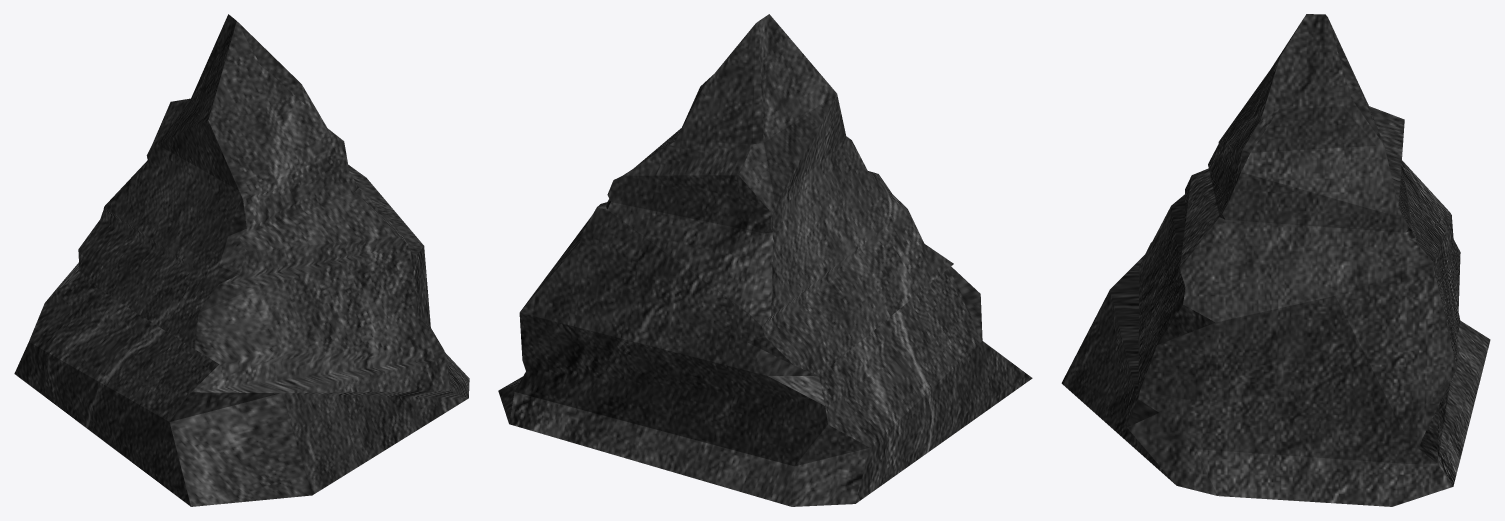
File: pedra1g.fbx
The picture shows the model from 3 angles, left to right: view 1: azimuth 30°, elevation 25°; view 2: azimuth 150°, elevation 25°; view 3: azimuth 270°, elevation 25°; orthographic projection. The views are drawn at different scales.
Visible parts, largest first — view 1: Pedra1g_LOD0; view 2: Pedra1g_LOD0; view 3: Pedra1g_LOD0.
Part boxes in pixels (<box>): Pedra1g_LOD0: <box>14,14,469,506</box>; Pedra1g_LOD0: <box>498,14,1032,506</box>; Pedra1g_LOD0: <box>1061,14,1490,506</box>.
Size of what is drawn, in the model's own units: 922 by 917 by 912.
